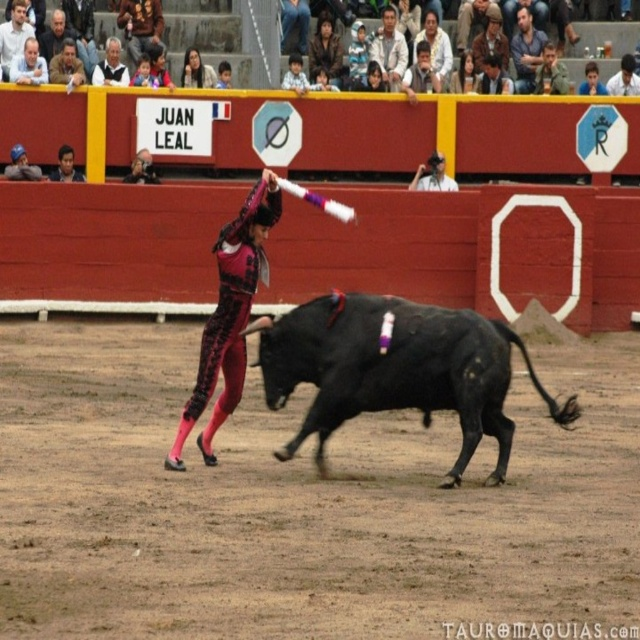Bull: (239, 290, 580, 485)
